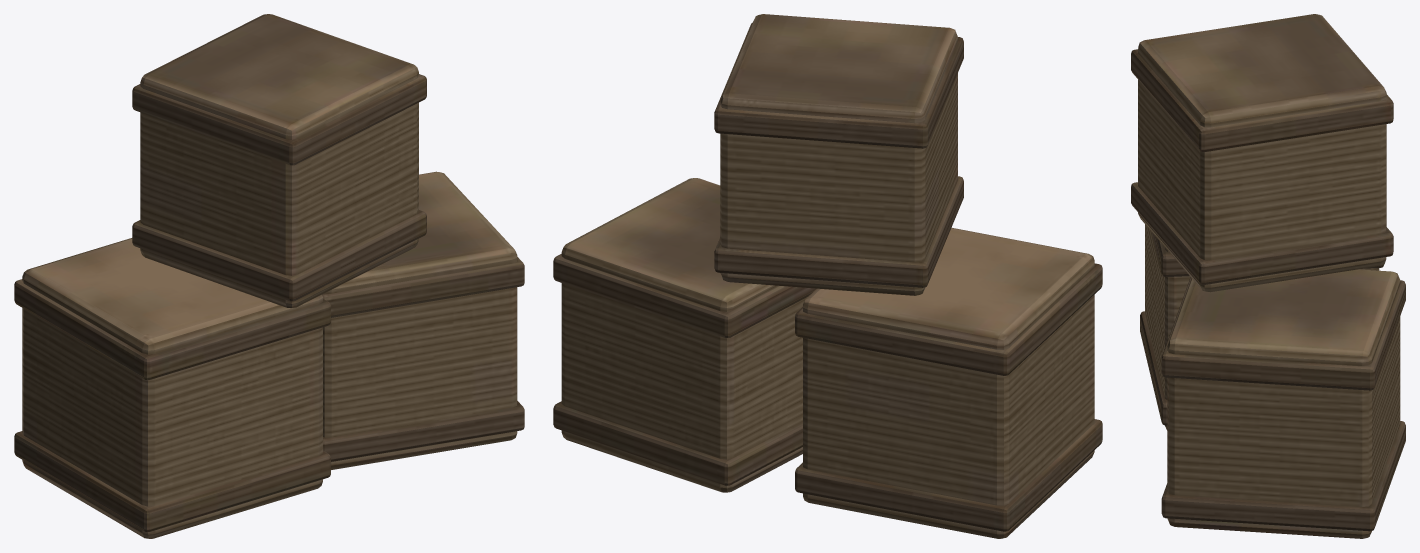
File: crates.glb
3 views of the same model, side by side, from view 1: azimuth 30°, elevation 25°; view 2: azimuth 150°, elevation 25°; view 3: azimuth 270°, elevation 25° (orthographic). The views are drawn at different scales.
Parts seen in each view (by area): view 1: crates; view 2: crates; view 3: crates.
Part boxes in pixels (left/top/right/bottom): crates: left=14, top=14, right=524, bottom=538; crates: left=553, top=14, right=1102, bottom=538; crates: left=1131, top=14, right=1405, bottom=538.
Size of the model in its own units: 1.15 by 0.96 by 0.6374.
1 material, 1 textured.
